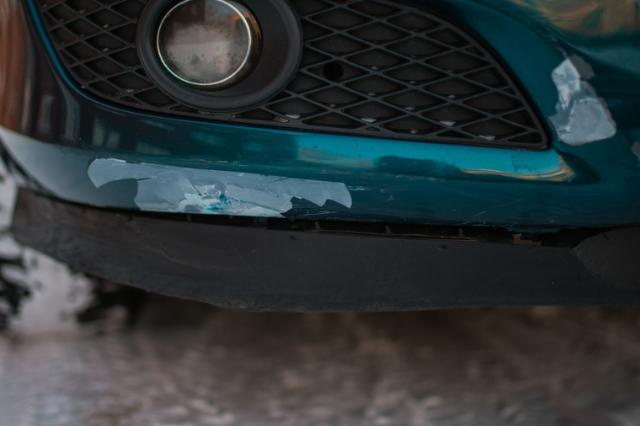Bumper: (75, 3, 625, 245)
